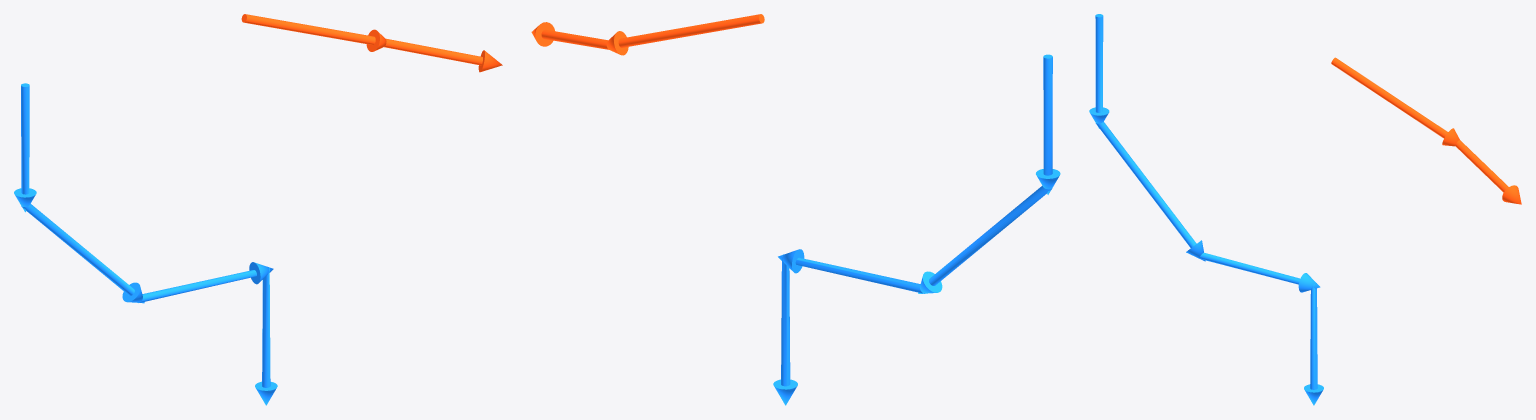
File: magnetic_separator_flow.glb
The picture shows the model from 3 angles, left to right: view 1: azimuth 30°, elevation 25°; view 2: azimuth 150°, elevation 25°; view 3: azimuth 330°, elevation 25°; orthographic projection. The views are drawn at different scales.
Visible parts, largest first — view 1: feed, concentrate; view 2: feed, concentrate; view 3: feed, concentrate.
Part boxes in pixels (x1,y1,x2,y2): feed: (14, 83, 277, 405); concentrate: (241, 14, 502, 72); feed: (773, 54, 1060, 405); concentrate: (531, 14, 764, 55); feed: (1089, 14, 1323, 405); concentrate: (1331, 57, 1521, 204).
Size of the model in its own units: 1.92 by 1.43 by 0.228.
